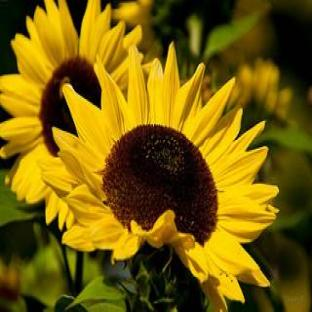sunflower: (37, 44, 280, 312)
